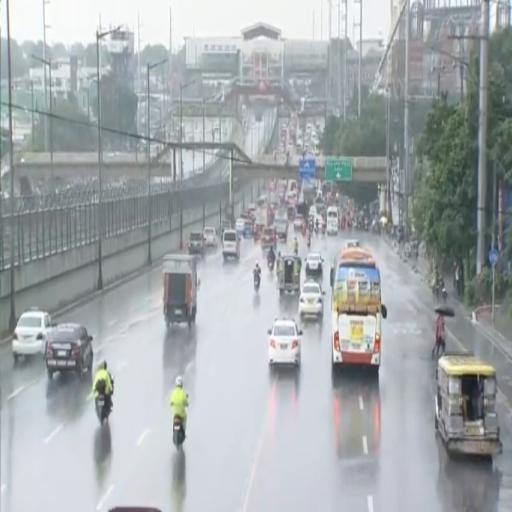bus: (330, 248, 386, 374), (327, 206, 339, 235)
car: (45, 324, 93, 379), (12, 309, 53, 361), (268, 318, 302, 366), (299, 281, 324, 318), (222, 230, 239, 261), (305, 253, 323, 277), (261, 227, 276, 248), (189, 232, 203, 254), (203, 227, 217, 247), (221, 219, 231, 235), (294, 214, 303, 230), (344, 239, 360, 248), (236, 218, 245, 233)
jeepney: (435, 352, 502, 456), (277, 255, 301, 295)
motorcycle: (95, 381, 111, 425), (173, 416, 185, 450), (438, 279, 447, 301), (254, 274, 260, 292), (268, 260, 275, 273), (307, 236, 311, 248), (322, 224, 326, 234), (315, 224, 318, 234), (294, 247, 297, 255)
truck: (163, 254, 199, 328), (274, 210, 288, 242)
